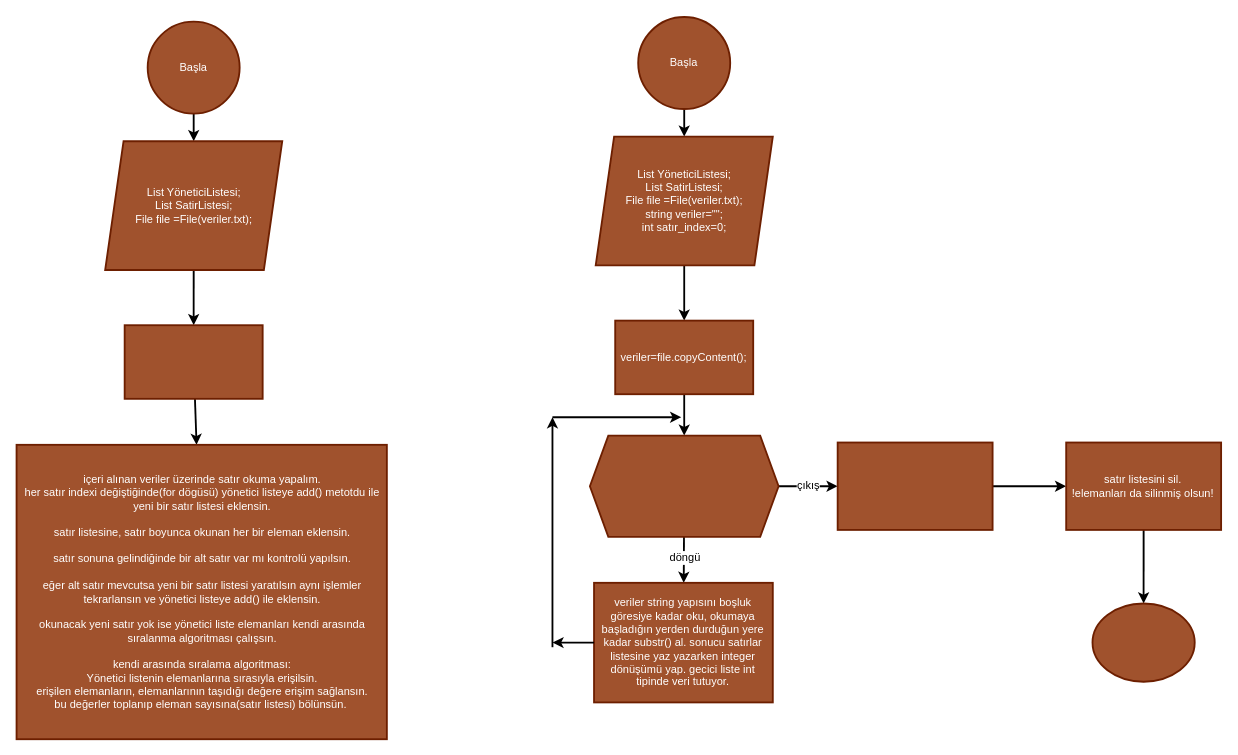
Some shapes in this 1238 by 755 pixel diagram are drawn without their labels. Each missing label, with the box of its shape:
file içeriğinin hepsini programın içinde bir stringe kopyala.: (123, 324, 263, 399)
son: (1091, 602, 1195, 682)
verilerin son karakterine varasıya dek tara: (589, 434, 779, 537)
üretilen satır listesini yönetici listeye ekle add().: (836, 441, 993, 530)
